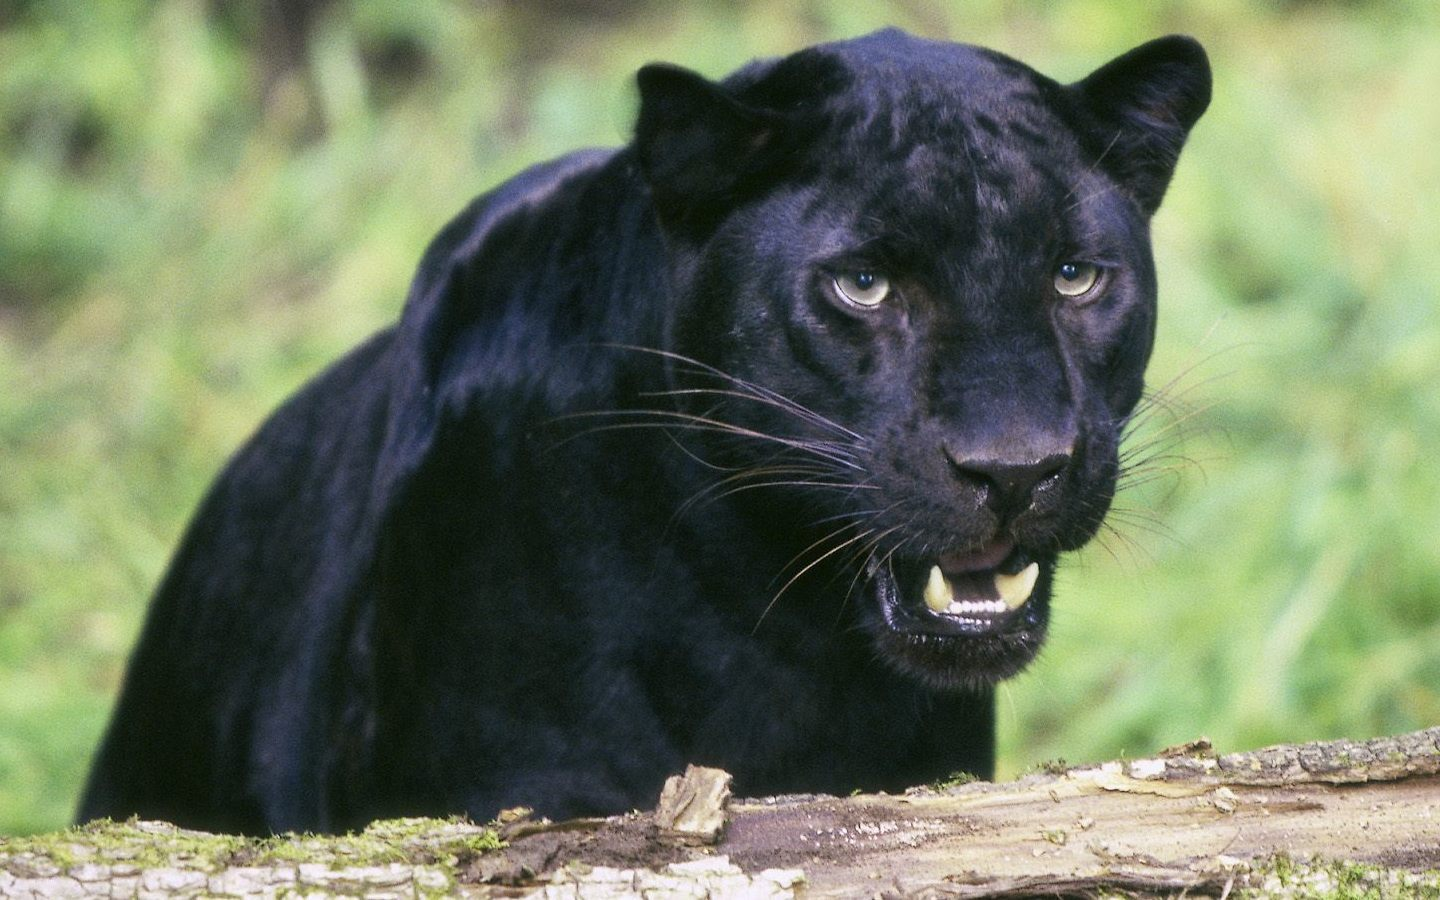panther: (550, 21, 1288, 721)
